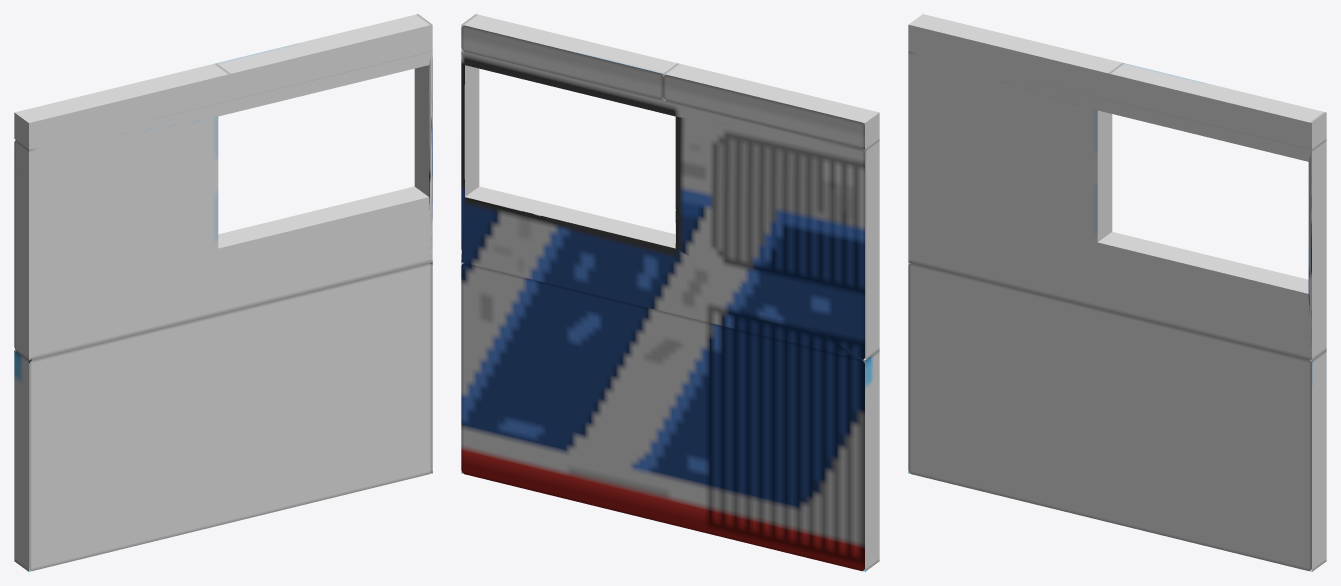
The model's file is df4d_right_board_g.obj.
3 renders of one model, left to right at view 1: azimuth 30°, elevation 25°; view 2: azimuth 150°, elevation 25°; view 3: azimuth 330°, elevation 25°, orthographic.
Visible parts, largest first — view 1: df4d_right_broad_g; view 2: df4d_right_broad_g; view 3: df4d_right_broad_g.
Part boxes in pixels (left/top/right/bottom): df4d_right_broad_g: left=14, top=14, right=432, bottom=571; df4d_right_broad_g: left=461, top=14, right=879, bottom=571; df4d_right_broad_g: left=908, top=14, right=1326, bottom=571.
Size of the model in its own units: 2 by 2.12 by 0.125.
